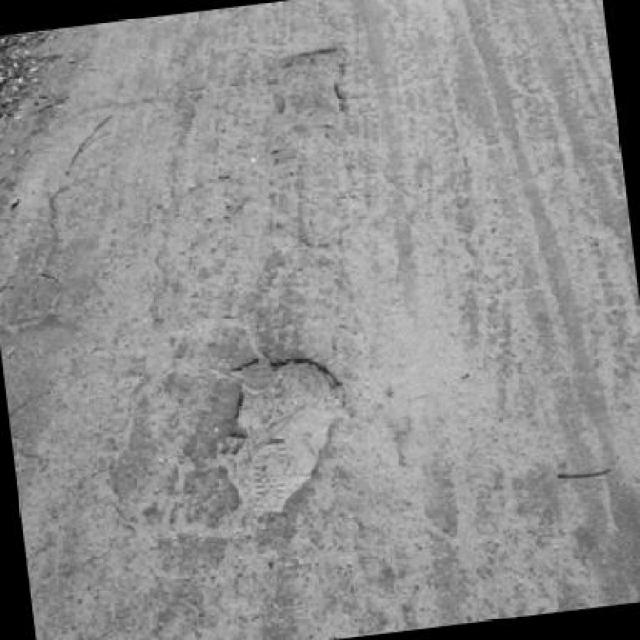pothole: (200, 340, 362, 525), (262, 43, 358, 139)
